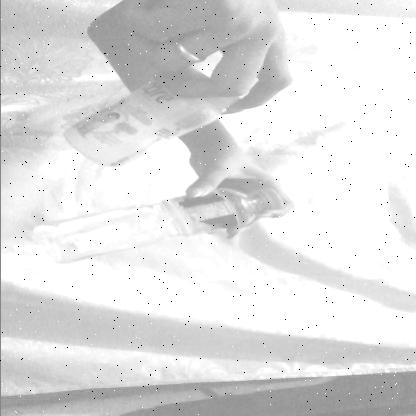Plastic Bottle: (7, 192, 319, 295)
